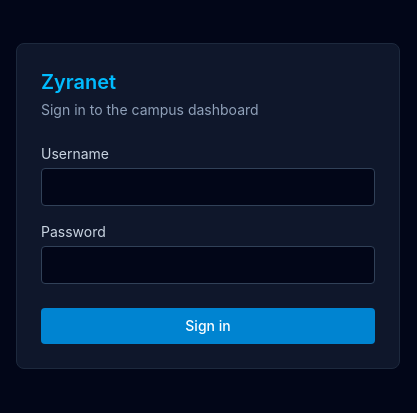
Test: Login page › shows the error message returned by the backend
Type "admin" into the field labelled "Username" at point(208, 187), box [41, 168, 375, 206]
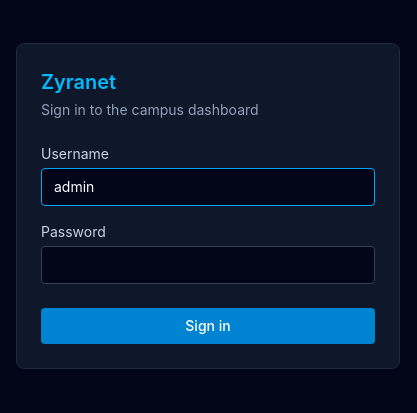
Type "nope" into the password field labelled "Password" at point(208, 265), box [41, 246, 375, 284]
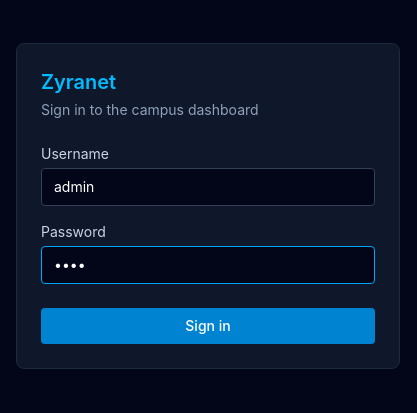
Click the button "Sign in" at point(208, 326), box [41, 308, 375, 344]
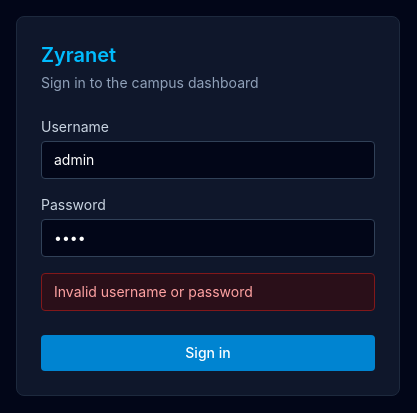
Expected: the text "Invalid username or password" is shown, [41, 273, 375, 311]
